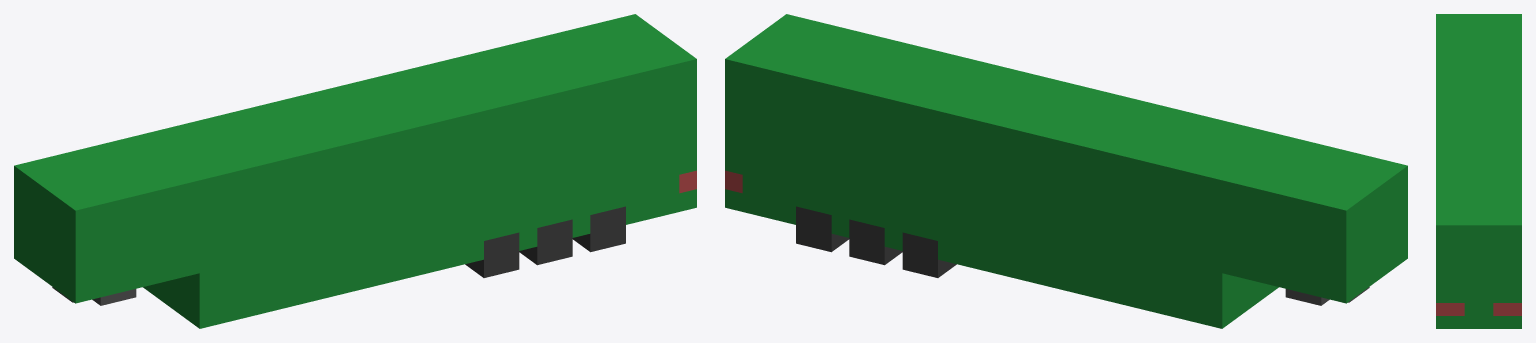
File: semitrailer-v1-green.gltf
3 renders of one model, left to right at view 1: azimuth 30°, elevation 25°; view 2: azimuth 150°, elevation 25°; view 3: azimuth 270°, elevation 25°, orthographic. The views are drawn at different scales.
Parts seen in each view (by area): view 1: model, wheels; view 2: model, wheels; view 3: model.
Boxes of the visible parts, x1,y1,x2,y2 form: model: [14, 14, 696, 328]; wheels: [465, 206, 625, 277]; model: [725, 14, 1407, 328]; wheels: [796, 206, 956, 277]; model: [1436, 14, 1521, 328].
Size of the model in its own units: 3.5 by 0.9 by 0.6.
Materials: 2 (2 with a texture image).
